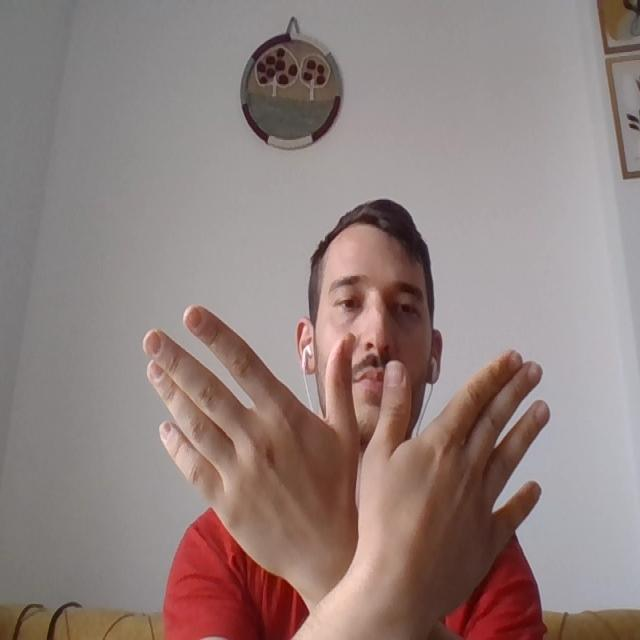thanks: (158, 316, 538, 592)
